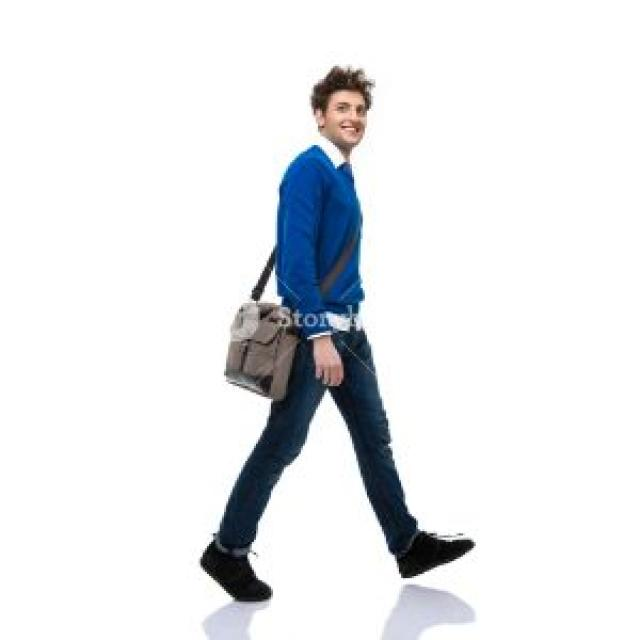nonfall: (156, 43, 484, 602)
